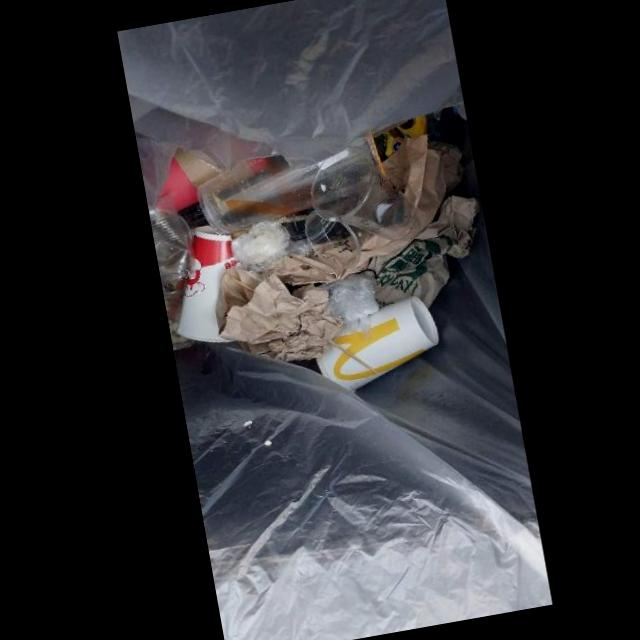carton: (315, 294, 439, 390), (176, 225, 241, 342)
giay: (275, 133, 463, 284), (215, 266, 342, 361), (374, 194, 479, 308)
hop_nhua: (197, 154, 322, 234), (148, 194, 195, 285)
tui_ni_long: (320, 268, 379, 338), (230, 219, 290, 271)
